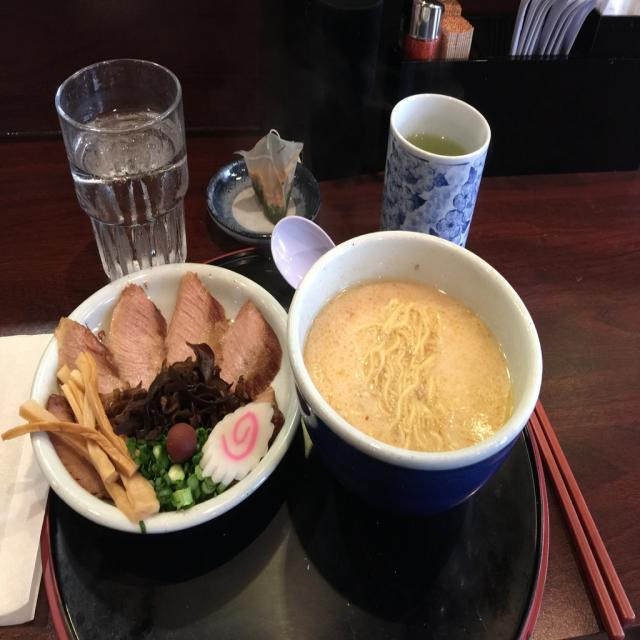Tea: (378, 77, 490, 249), (403, 136, 473, 160)
